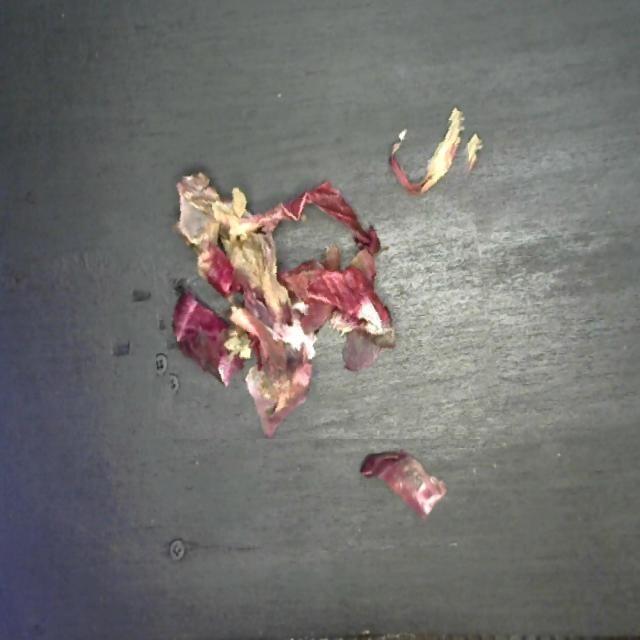biodegradable: (156, 111, 494, 439)
